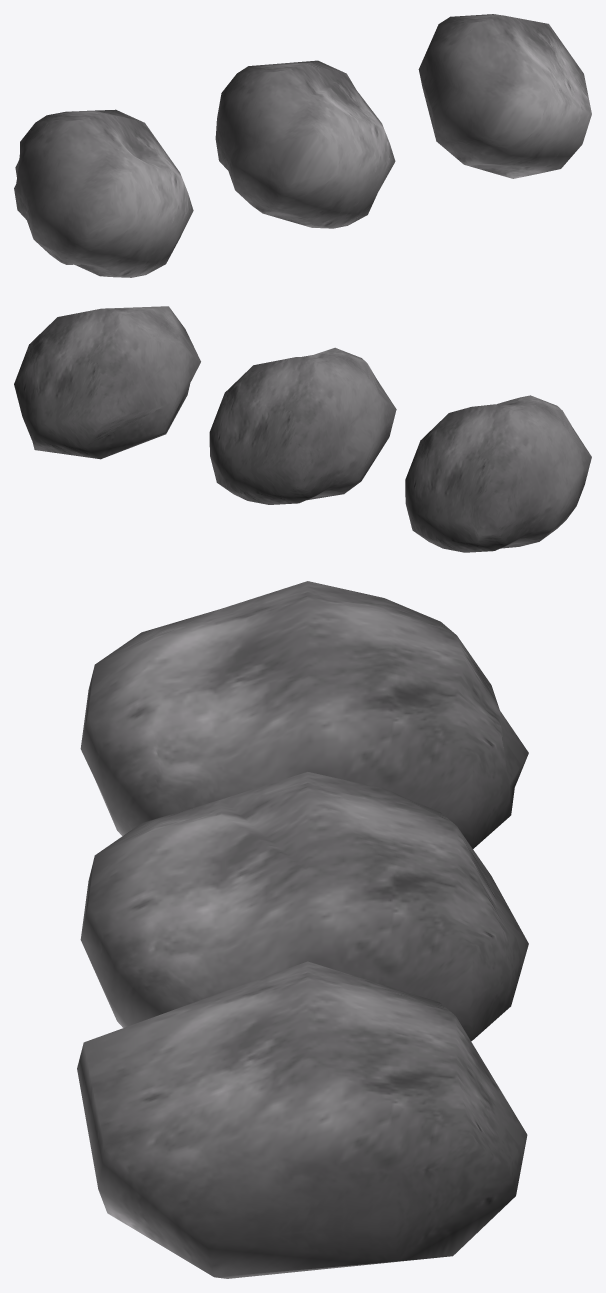
The model's file is asteroid_2_swap_01.dae.
The picture shows the model from 3 angles, top to bottom: view 1: azimuth 30°, elevation 25°; view 2: azimuth 150°, elevation 25°; view 3: azimuth 270°, elevation 25°; orthographic projection. The views are drawn at different scales.
Visible parts, largest first — view 1: MULT[asteroid_02]_LOD[0], MULT[asteroid_02]_LOD[1], MULT[asteroid_02]_LOD[2]; view 2: MULT[asteroid_02]_LOD[0], MULT[asteroid_02]_LOD[1], MULT[asteroid_02]_LOD[2]; view 3: MULT[asteroid_02]_LOD[2], MULT[asteroid_02]_LOD[1], MULT[asteroid_02]_LOD[0].
Boxes of the visible parts, x1,y1,x2,y2 form: MULT[asteroid_02]_LOD[0]: (14,109,193,277); MULT[asteroid_02]_LOD[1]: (215,60,395,228); MULT[asteroid_02]_LOD[2]: (418,14,591,178); MULT[asteroid_02]_LOD[0]: (405,395,591,552); MULT[asteroid_02]_LOD[1]: (209,347,396,504); MULT[asteroid_02]_LOD[2]: (14,306,200,459); MULT[asteroid_02]_LOD[2]: (77,961,527,1278); MULT[asteroid_02]_LOD[1]: (80,772,528,1041); MULT[asteroid_02]_LOD[0]: (80,581,528,848).
Size of the model in its own units: 136 by 35.81 by 51.28.
Materials: 1 (1 with a texture image).
